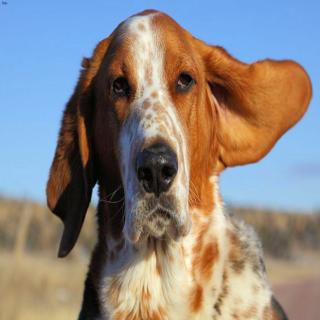dog: (45, 14, 307, 259)
nose: (134, 143, 182, 197)
